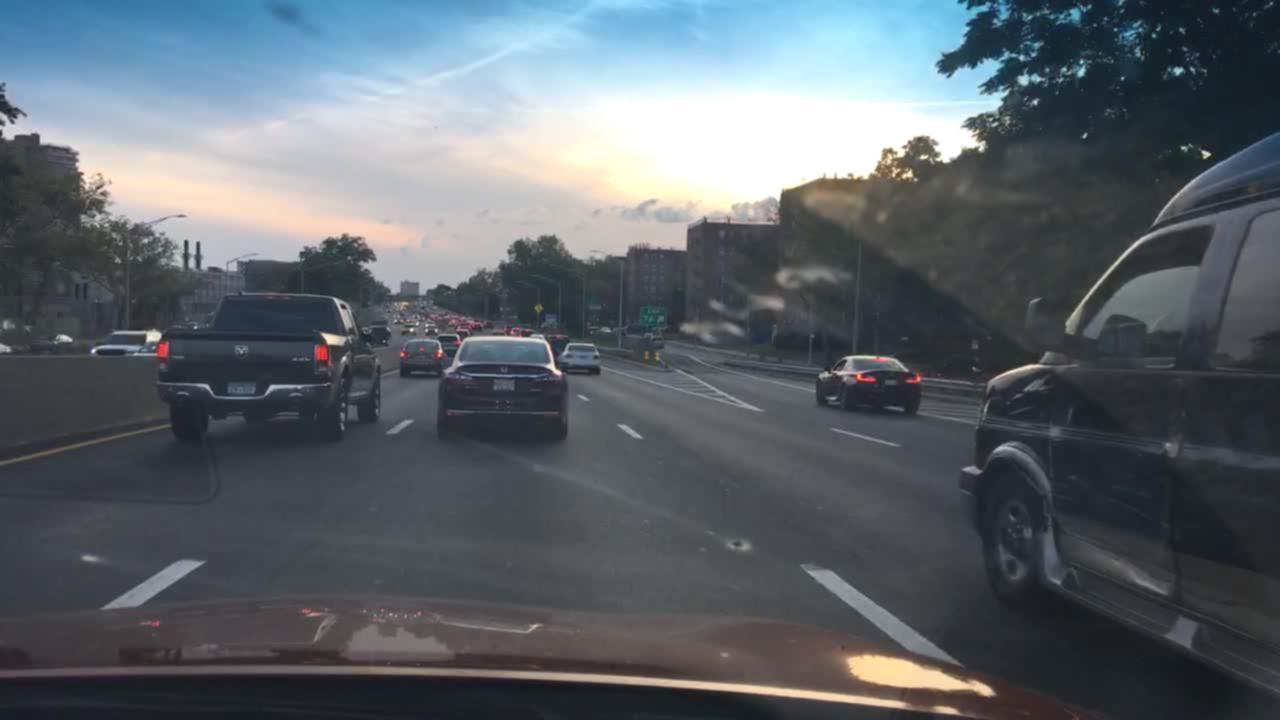Honda: (499, 365, 509, 375)
ram: (233, 342, 253, 362)
